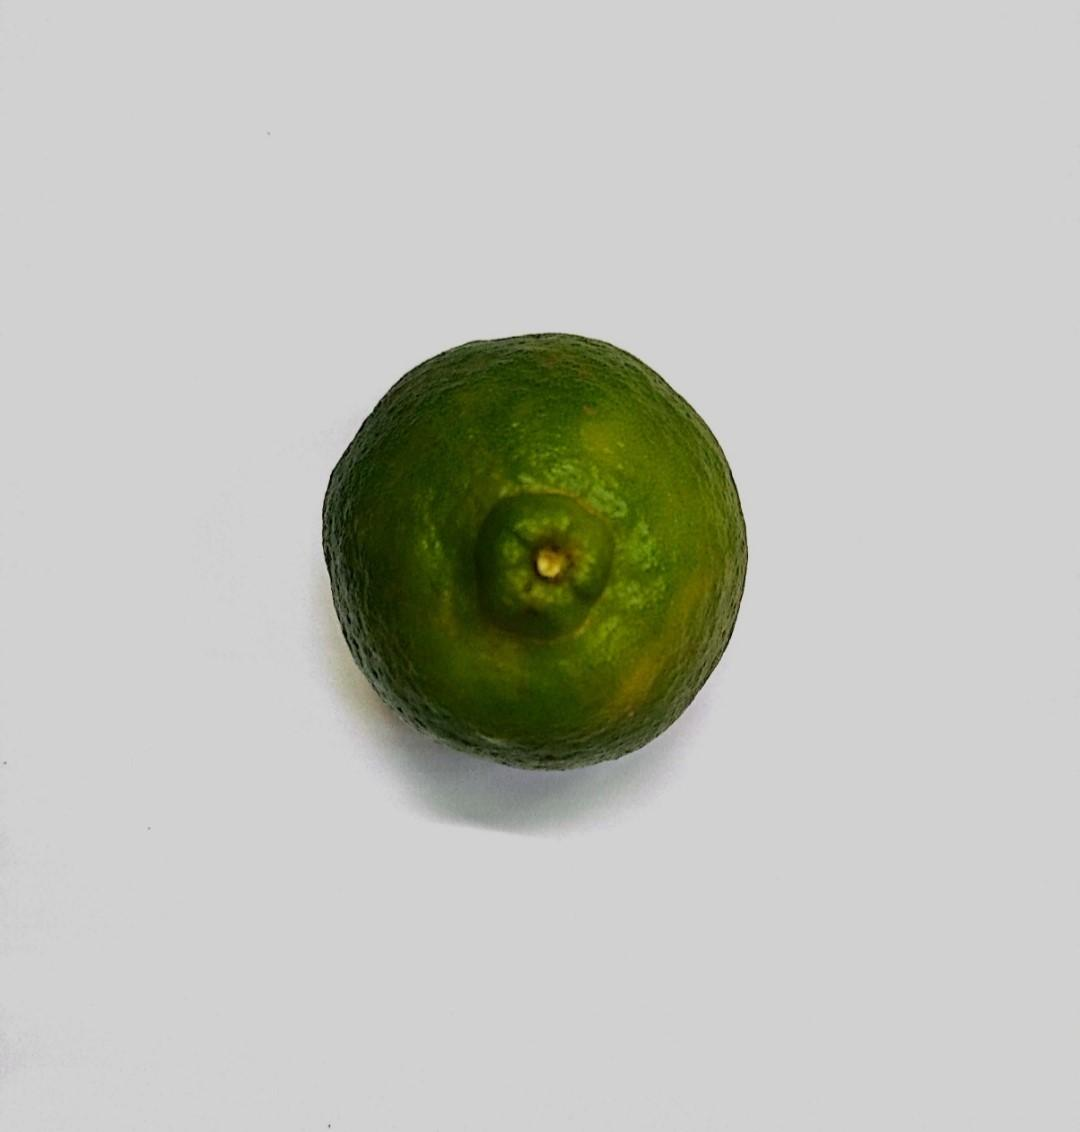Unripe: (336, 331, 747, 767)
